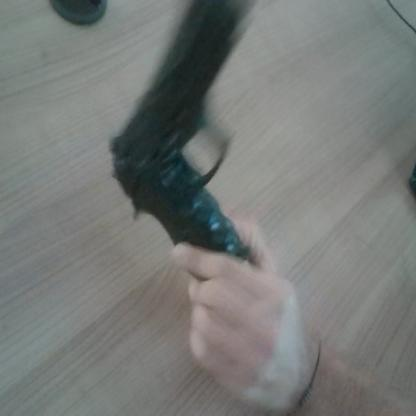handgun: (108, 0, 304, 279)
